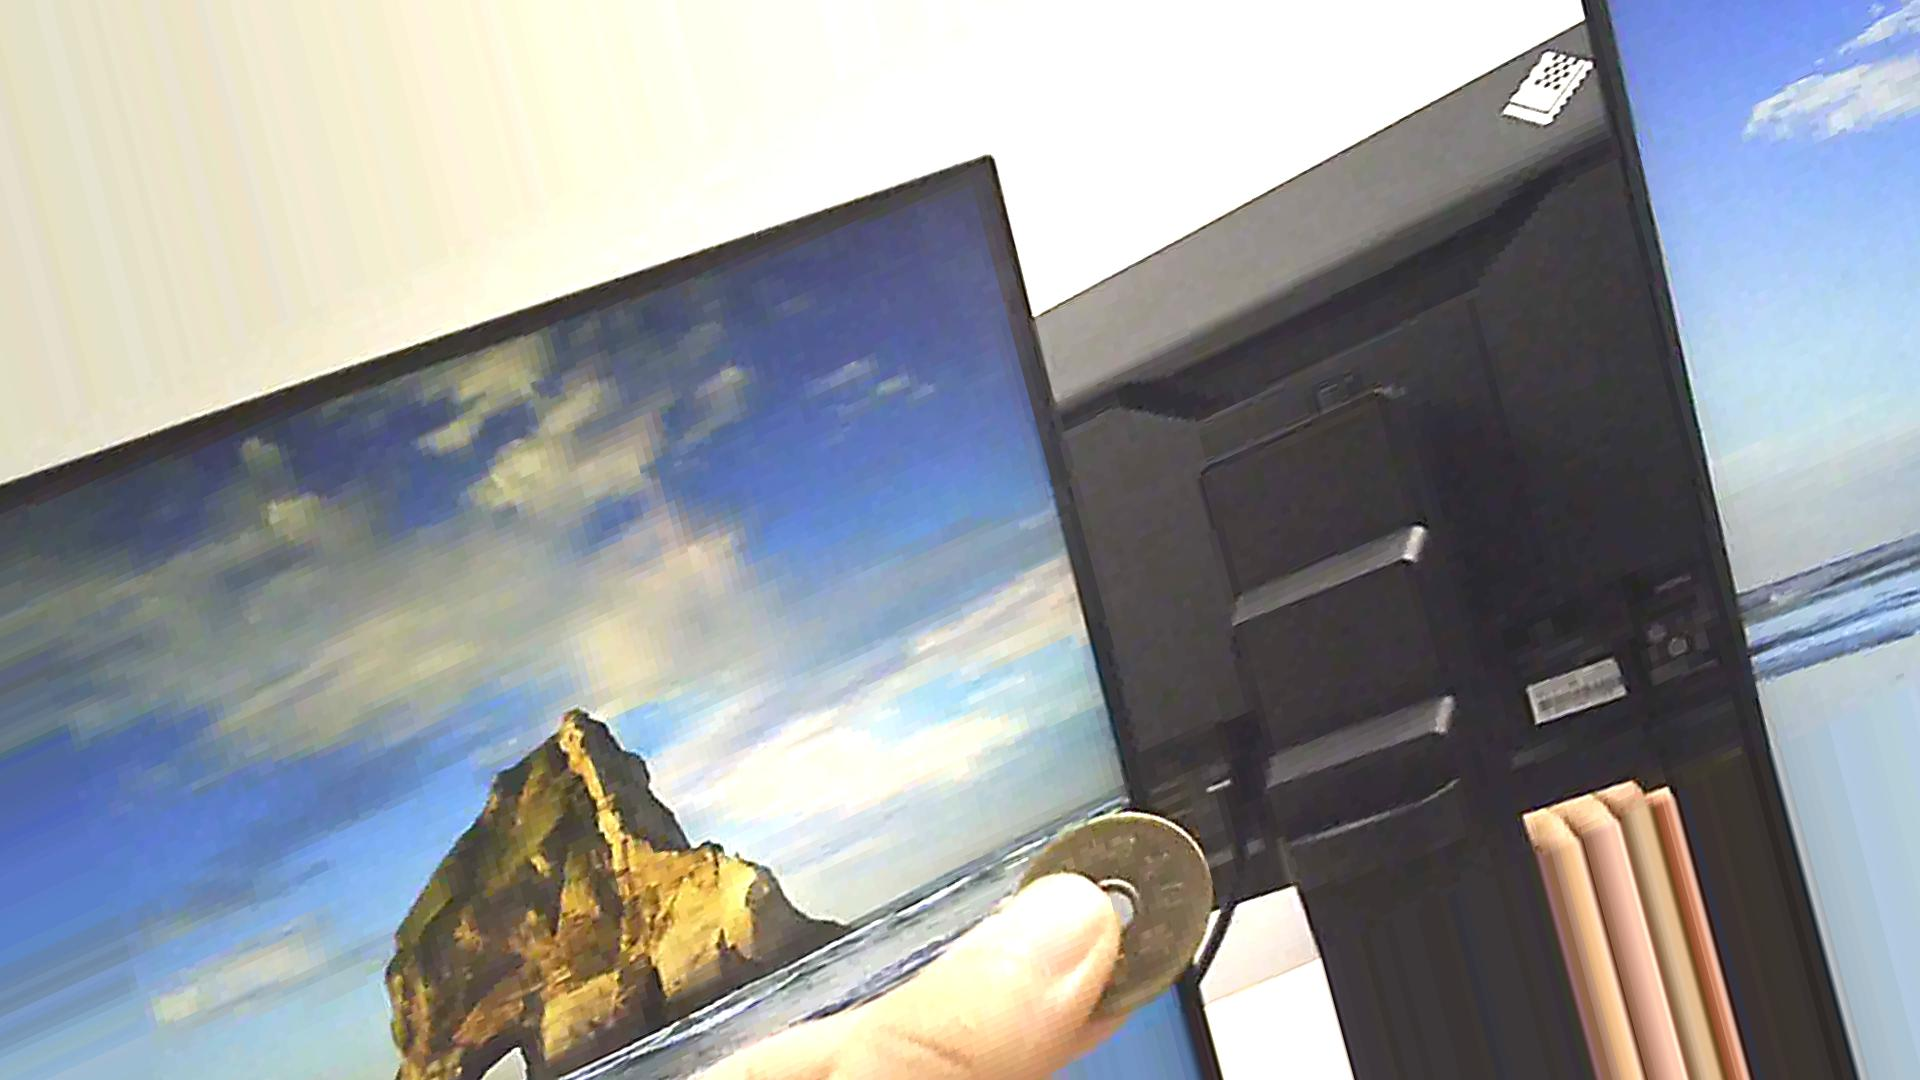5 Yen: (1001, 814, 1207, 1029)
